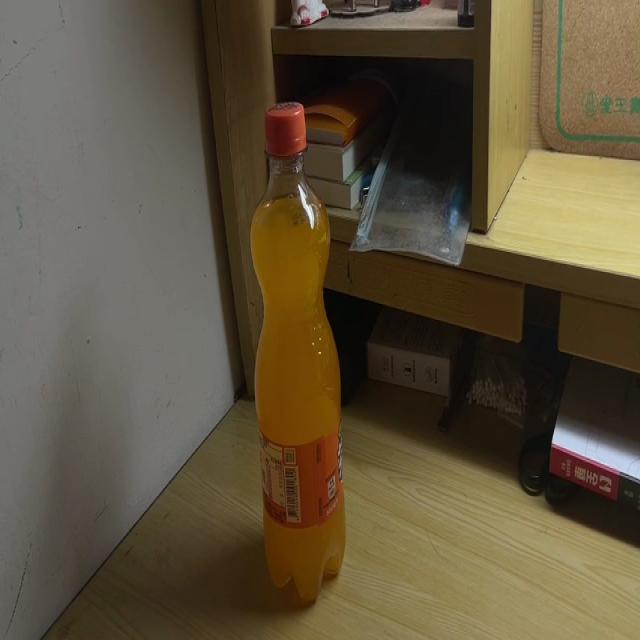Fanta: (248, 100, 346, 605)
